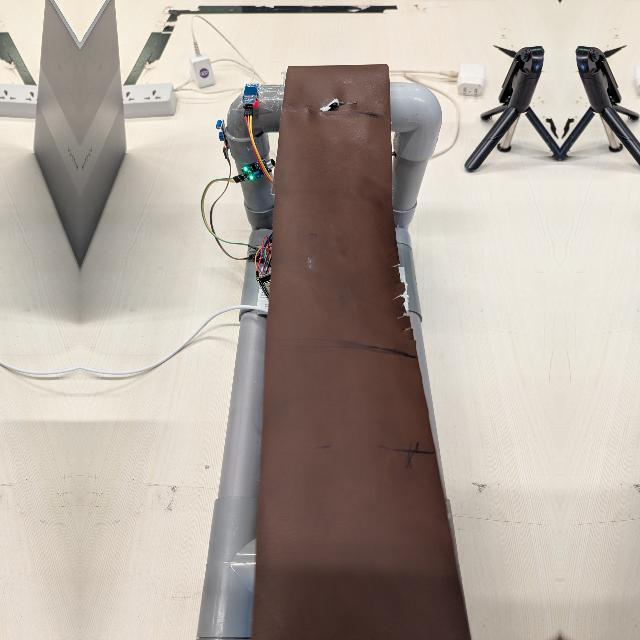edge_damage: (380, 246, 426, 365)
joint_damage: (310, 82, 367, 126)
